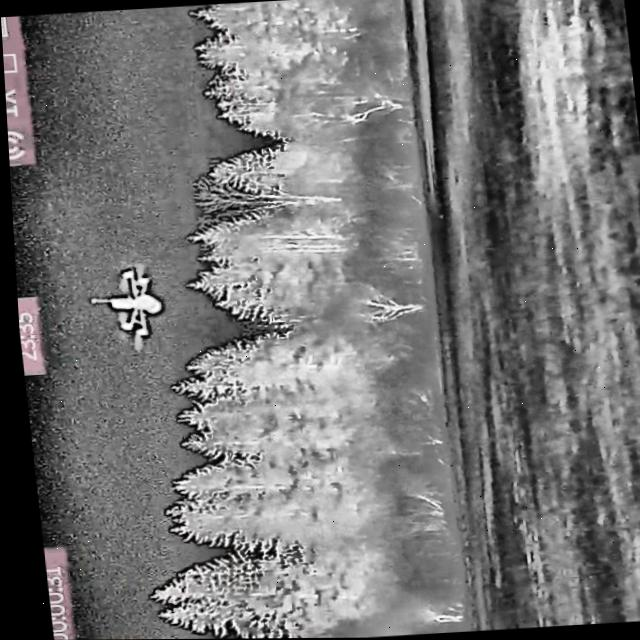drone: (85, 263, 164, 347)
